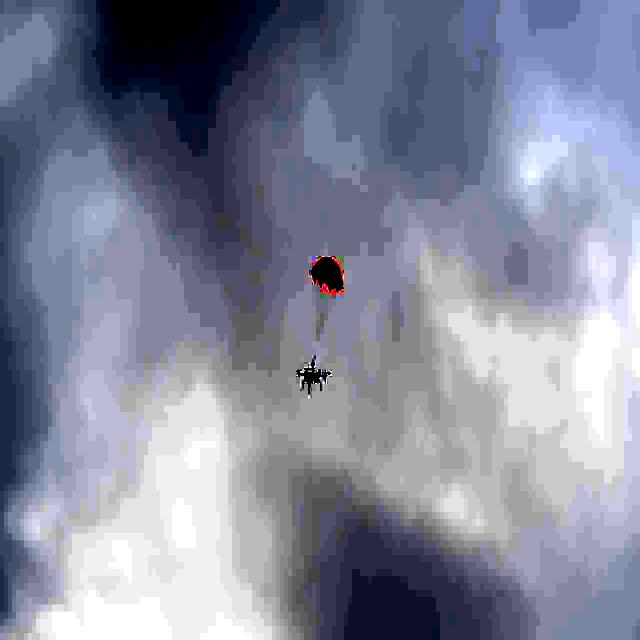drone: (295, 353, 331, 393)
